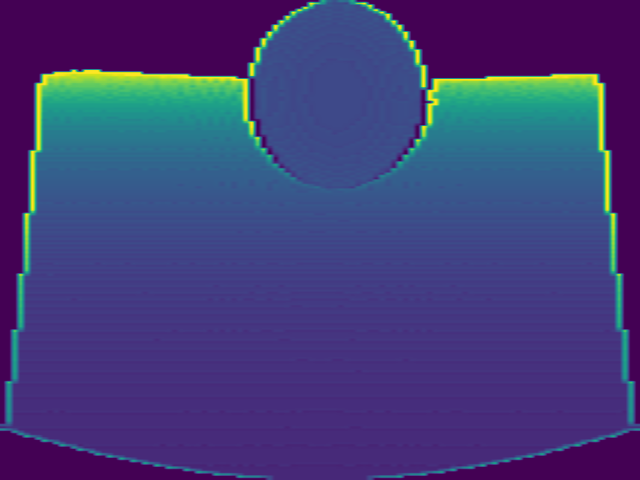sphere: (241, 1, 432, 187)
